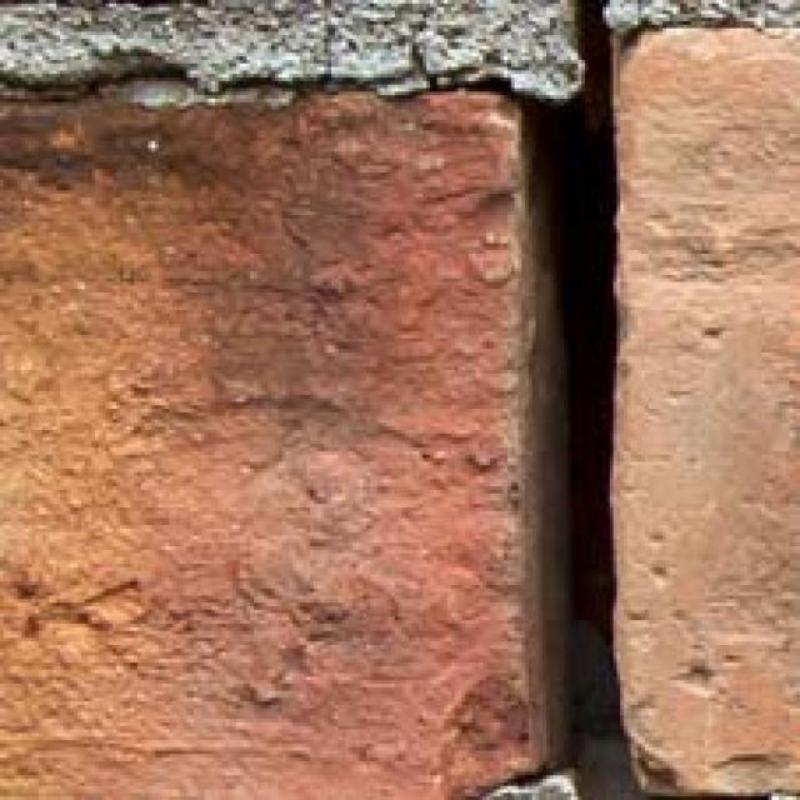pothole: (564, 0, 636, 800)
